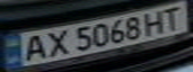0: (90, 20, 112, 47)
5: (69, 24, 93, 52)
6: (109, 17, 130, 44)
8: (124, 14, 148, 40)
A: (15, 32, 51, 63)
H: (139, 8, 169, 36)
T: (157, 3, 190, 32)
X: (39, 28, 72, 58)
